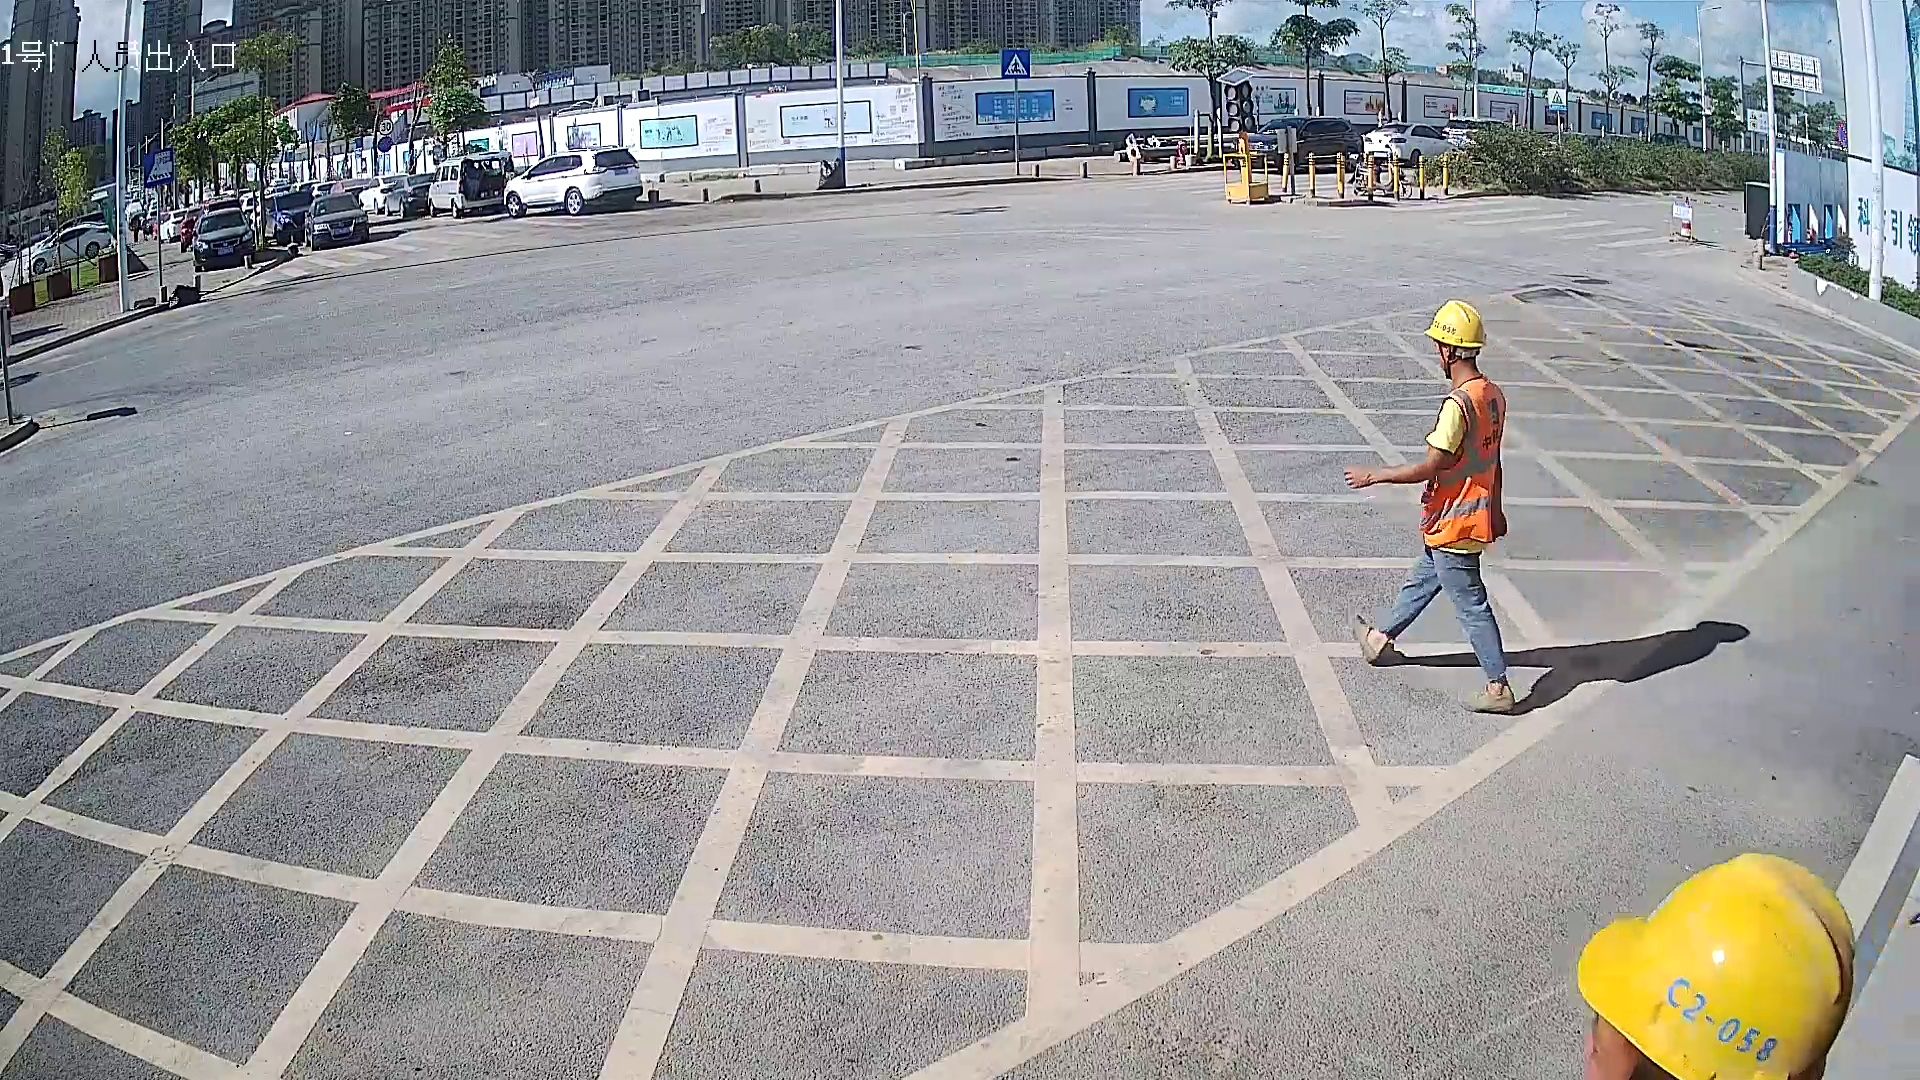person: (1338, 293, 1525, 719)
reflective_vest: (1417, 373, 1509, 547)
safety_helmet: (1573, 844, 1860, 1080), (1423, 295, 1488, 376)
